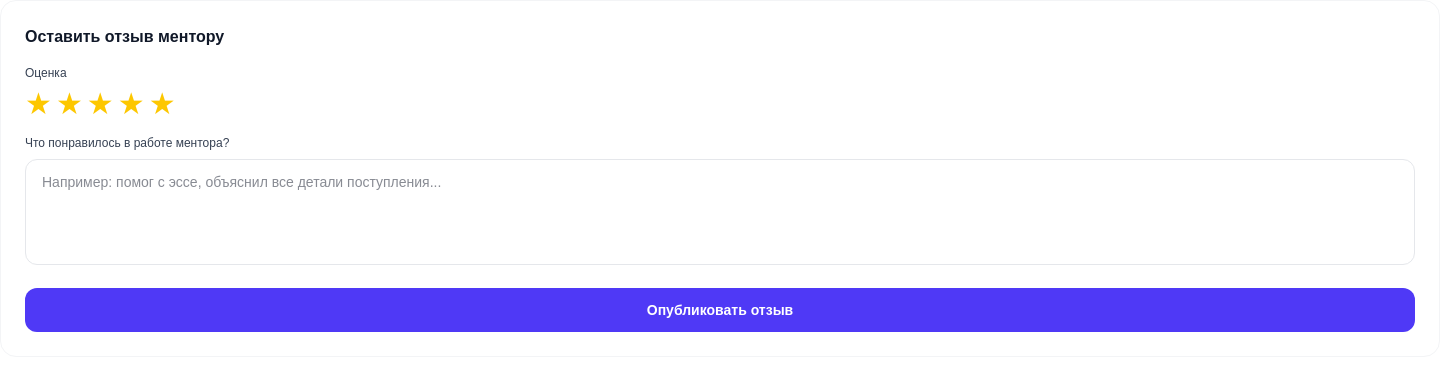
Test: ReviewForm › submits a valid review and shows the thank-you state
The width and height of the screenshot is (1440, 374).
Check: the button "Опубликовать отзыв" is shown, box [25,288,1415,332]
In the text box with placeholder "Например: помог с эссе, объяснил все детали поступления...": (720, 212) [25,159,1415,265], type "Really helpful sessions overall"
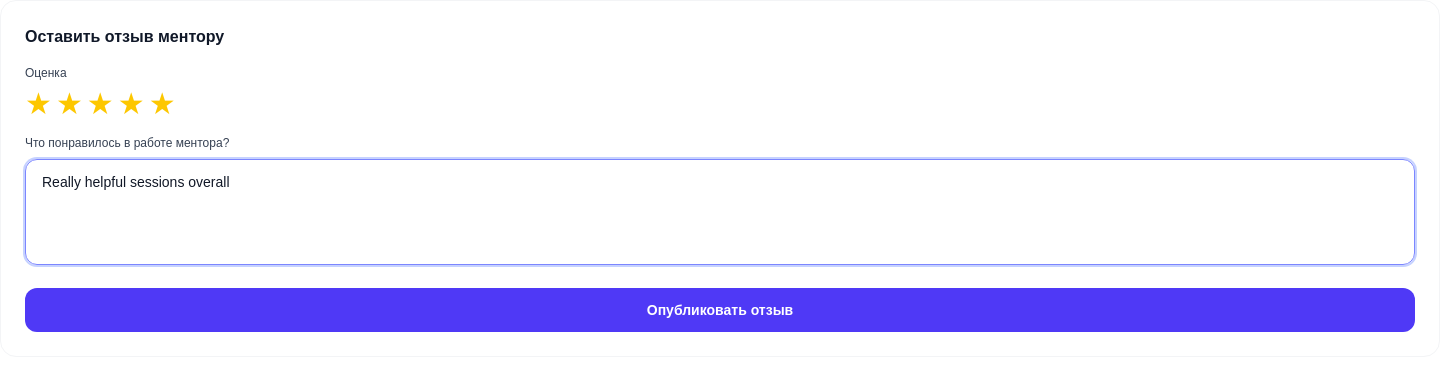
Click the button "Опубликовать отзыв": (720, 310) [25,288,1415,332]
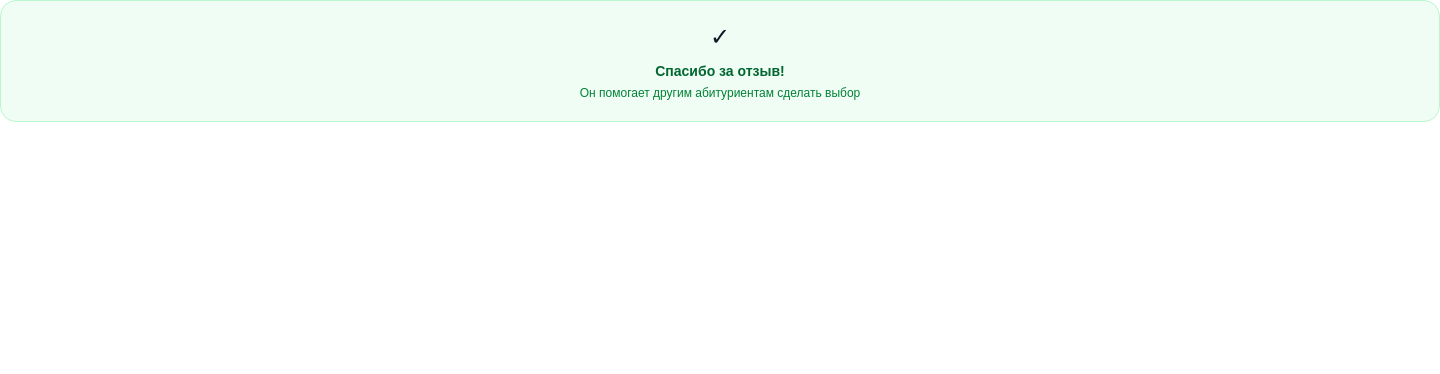
Check: the text "Спасибо за отзыв!" is shown, box [655,63,785,79]
